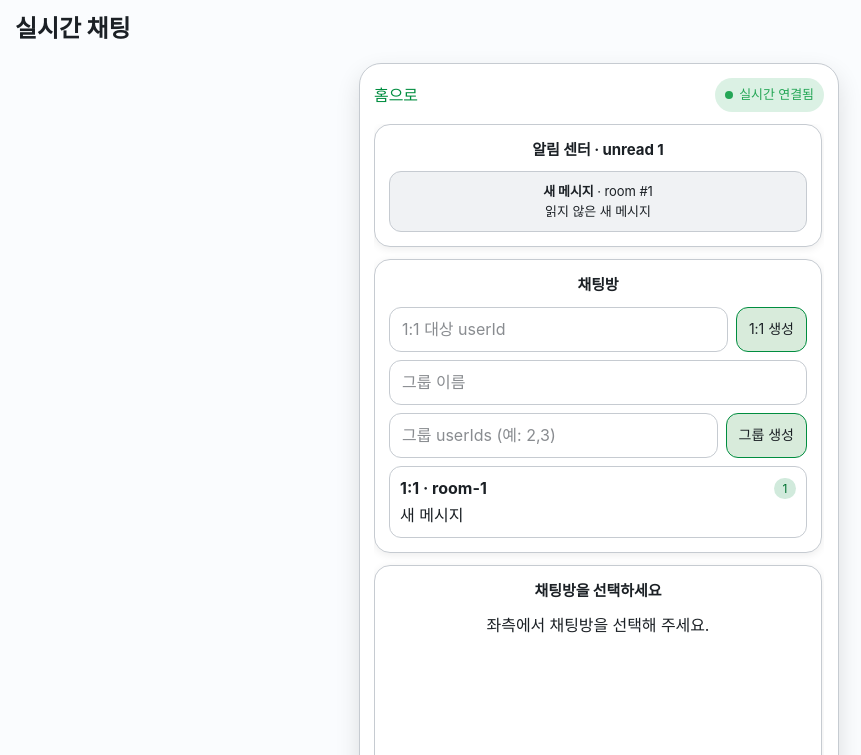
Test case: ChatPage smoke checklist › SMOKE-CHAT-004: 방 입장 시 unread 뱃지와 알림센터 메시지가 즉시 정리된다
This screenshot has width=861, height=755.
Expected: the text "읽지 않은 새 메시지" is shown, [545,202,651,218]
Expected: the heading "알림 센터 · unread 1" is shown, [532,140,664,158]
Click the button "1:1 · room-1 1 새 메시지" at (459, 488), box [389,466,807,538]
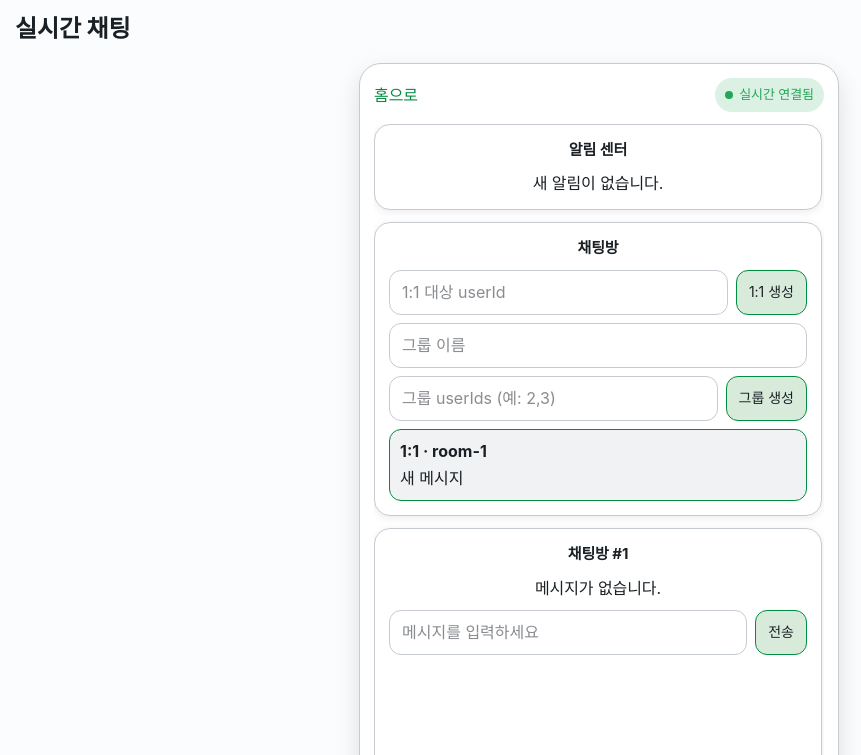
Expected: the text "읽지 않은 새 메시지" is gone
Expected: the heading "알림 센터 · unread 1" is gone
